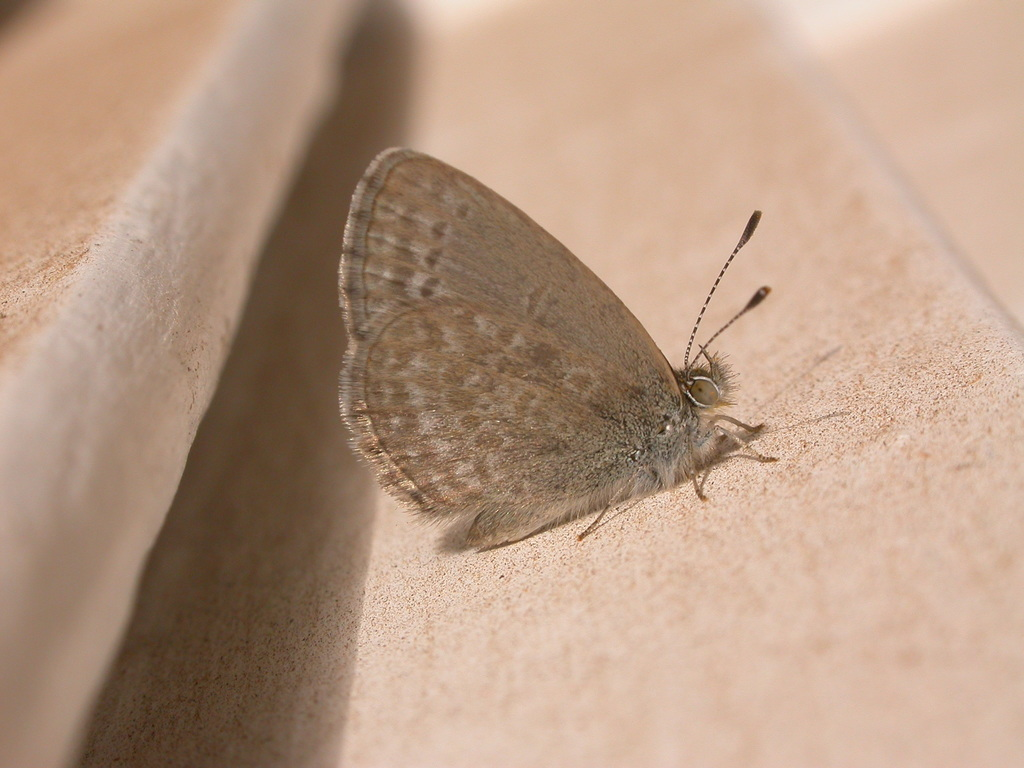Butterfly: (326, 149, 793, 550)
